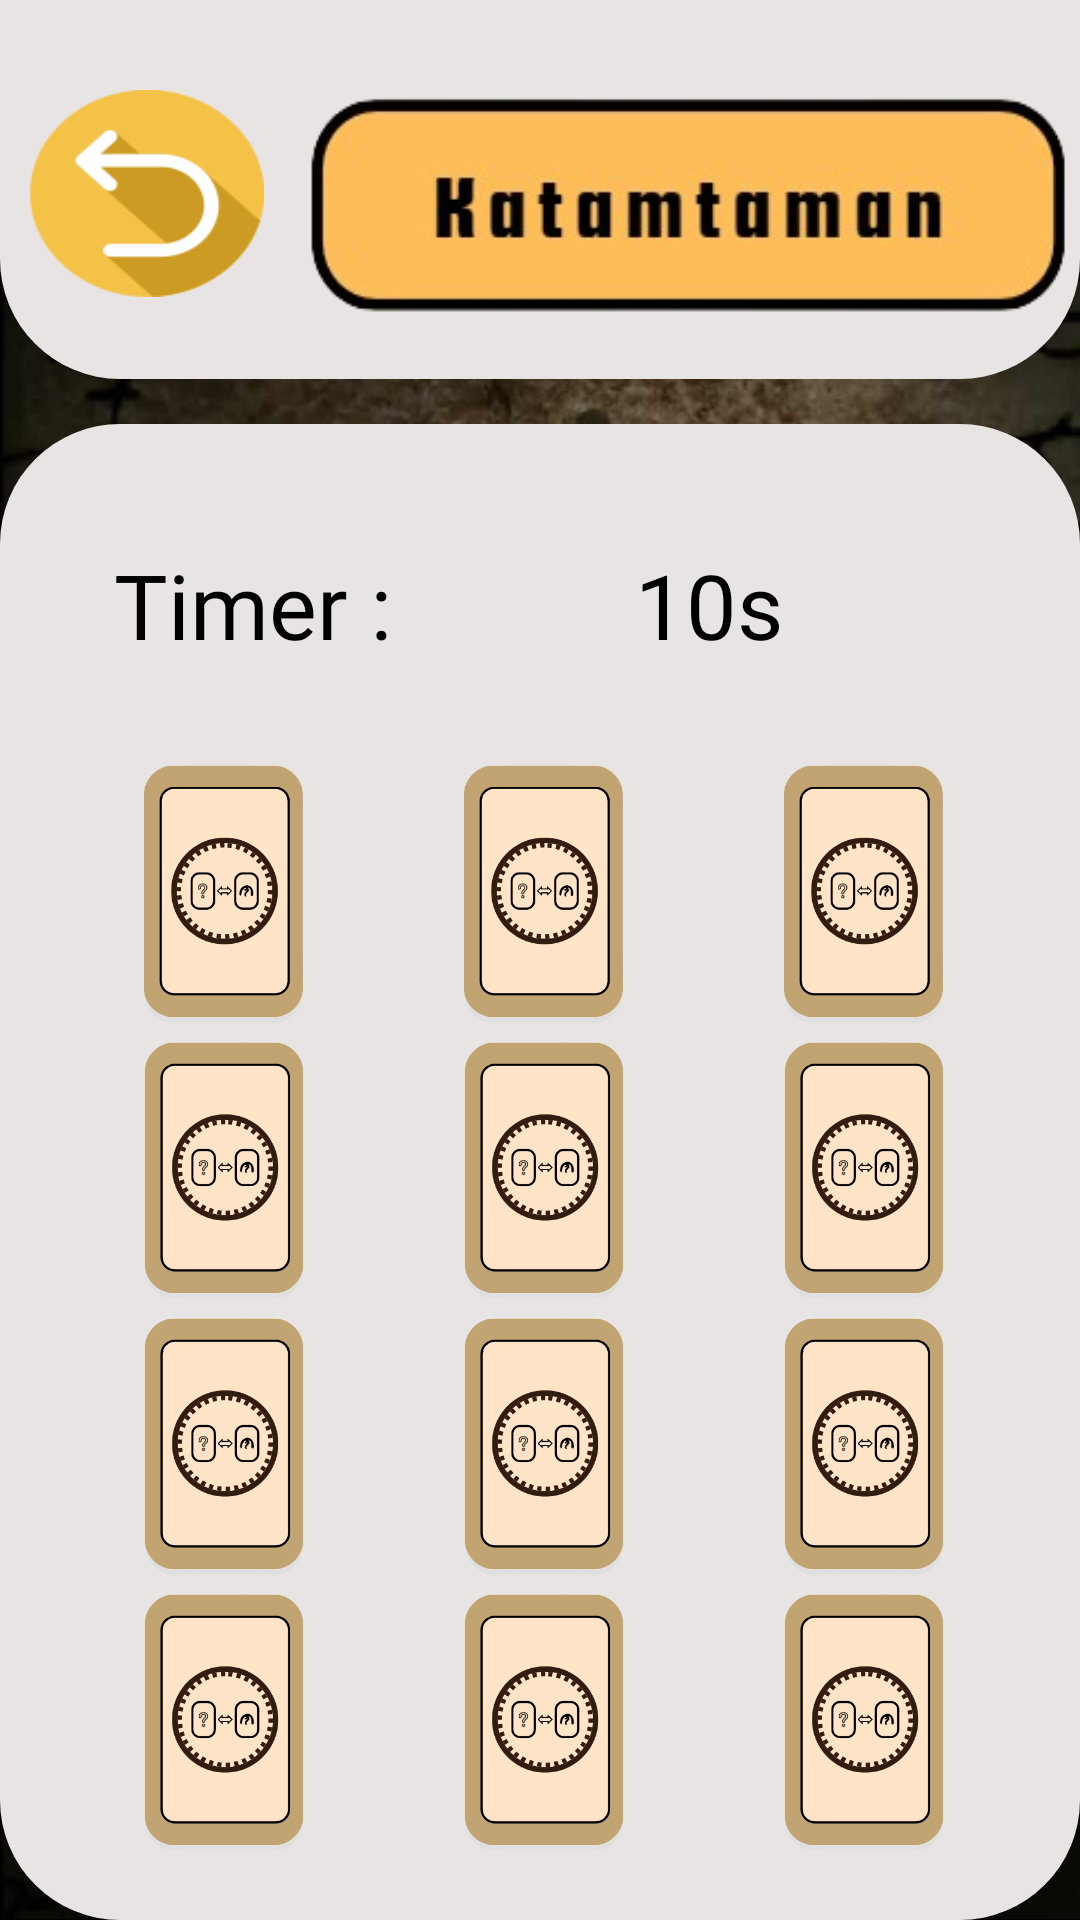

Icon bounding boxes for this 1080px×1920px phone screenshot, format (x1, y1, x2, y2):
undo: (30, 90, 264, 297)
